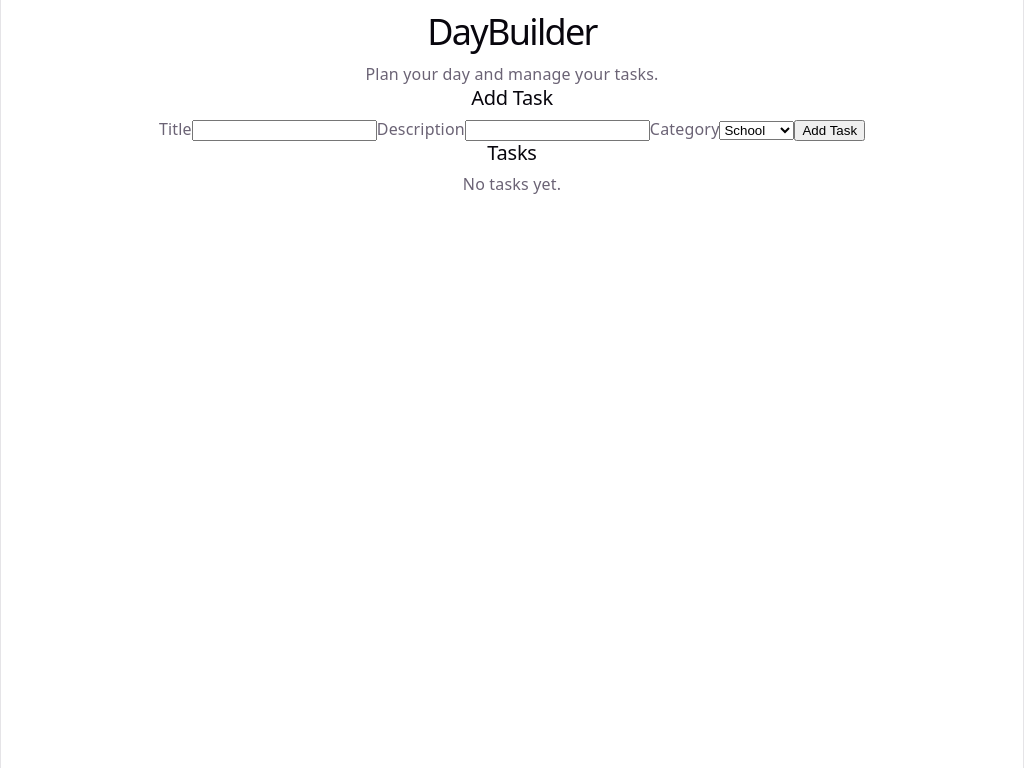
App add task through the service facade › does not add anything to the list when createTask fails
Expected: the text "No tasks yet." is shown, [463,173,561,195]
Type "Ghost task" into the field labelled "Title".
click(284, 130); type("Ghost task")  # box [192,120,377,141]
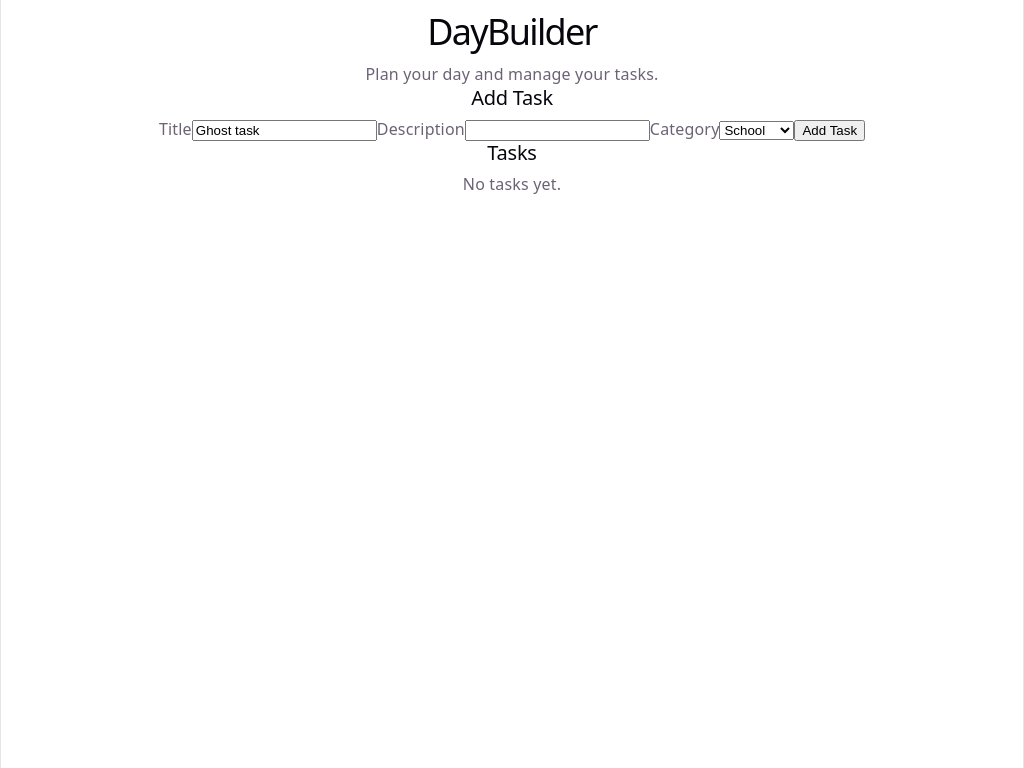
Type "Should not appear" into the field labelled "Description".
click(557, 130); type("Should not appear")  # box [465,120,650,141]
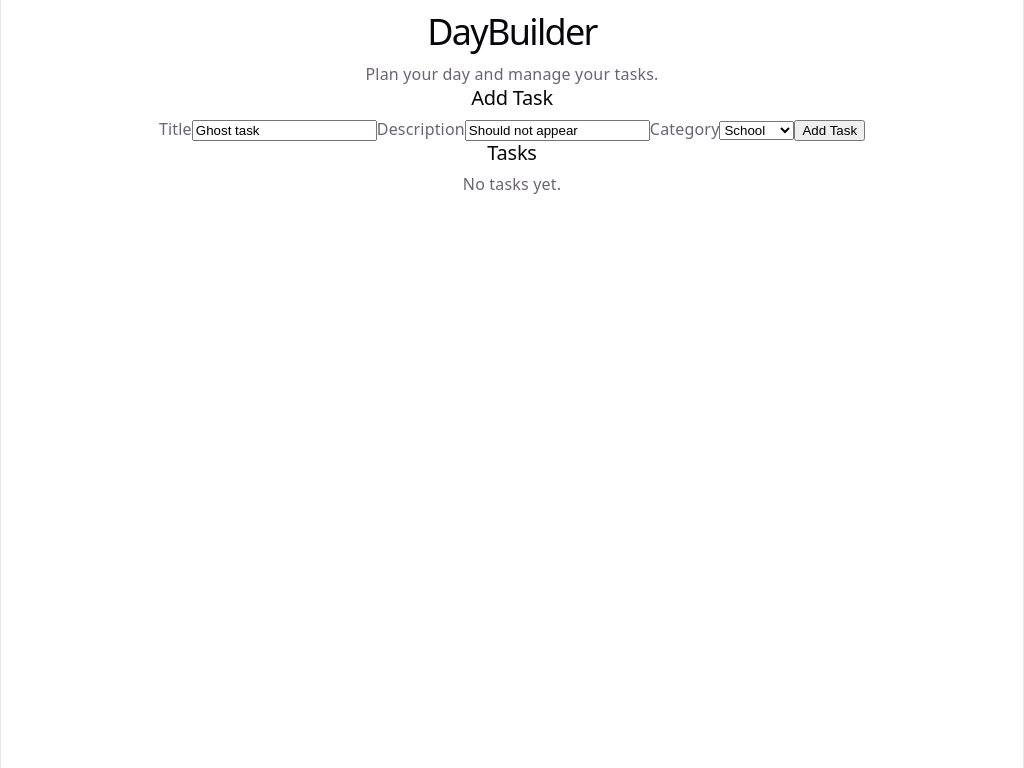
Click the button "Add Task".
click(830, 130)  # box [794,120,865,141]
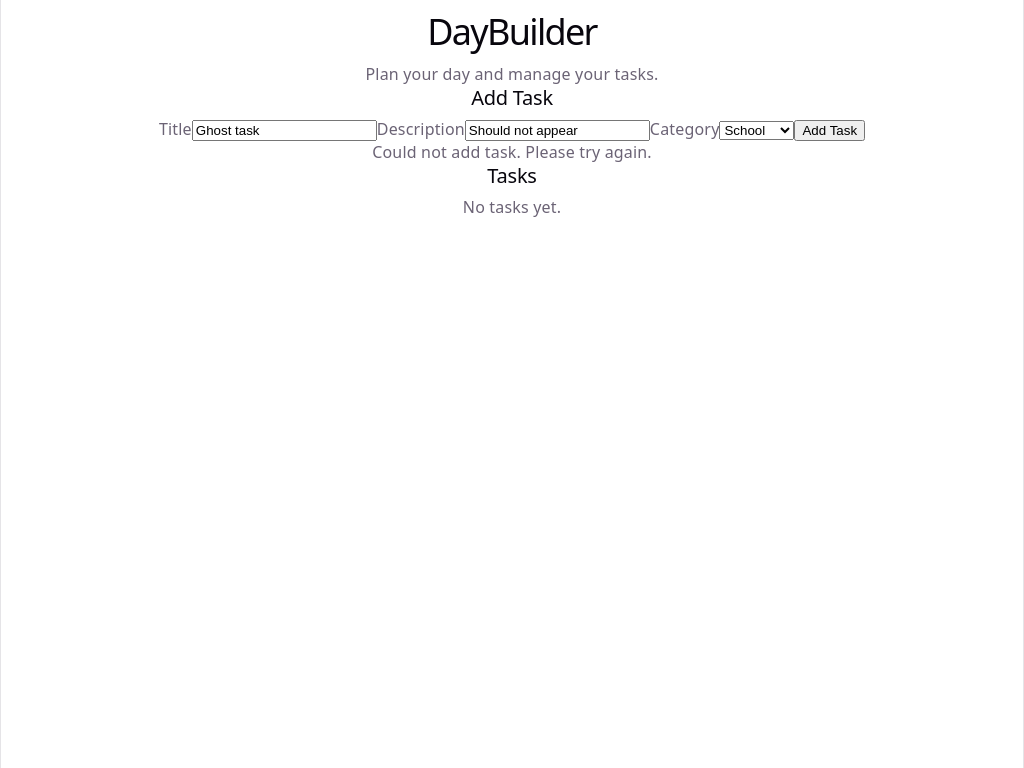
Expected: the text "No tasks yet." is shown, [463,196,561,218]
Expected: the message shows "Could not add task", [372,141,652,163]
